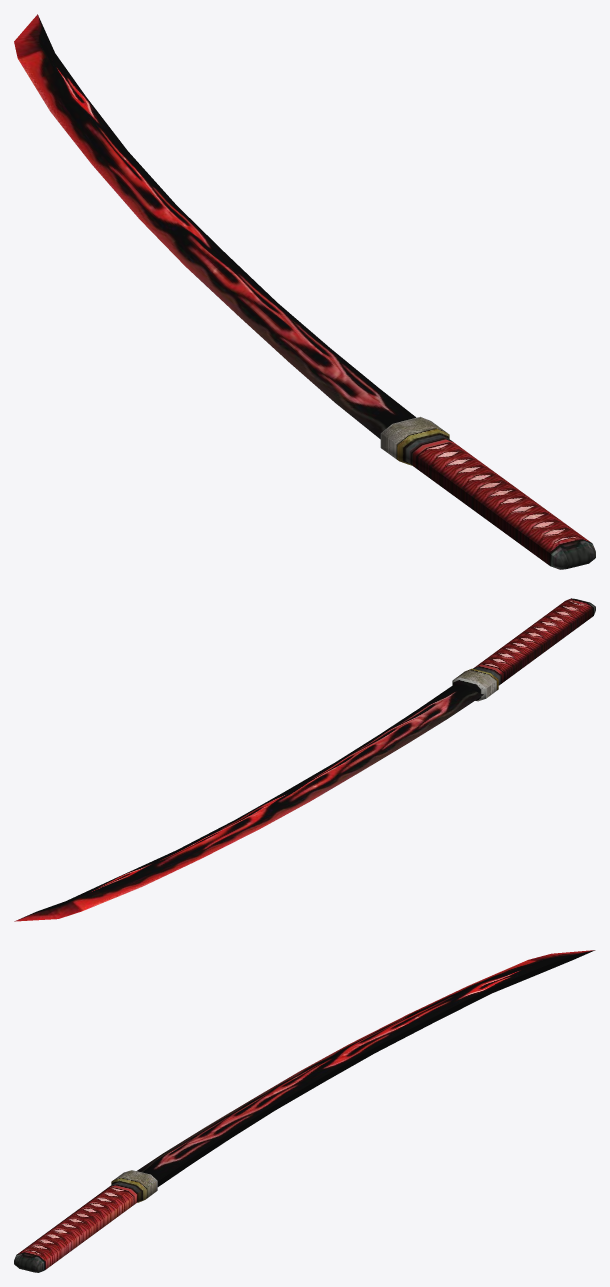
File: sword_flame_flame1.glb
3 renders of one model, top to bottom at view 1: azimuth 30°, elevation 25°; view 2: azimuth 150°, elevation 25°; view 3: azimuth 330°, elevation 25°, orthographic. The views are drawn at different scales.
Size of the model in its own units: 0.2049 by 0.0312 by 1.37.
Materials: 1 (1 with a texture image).
